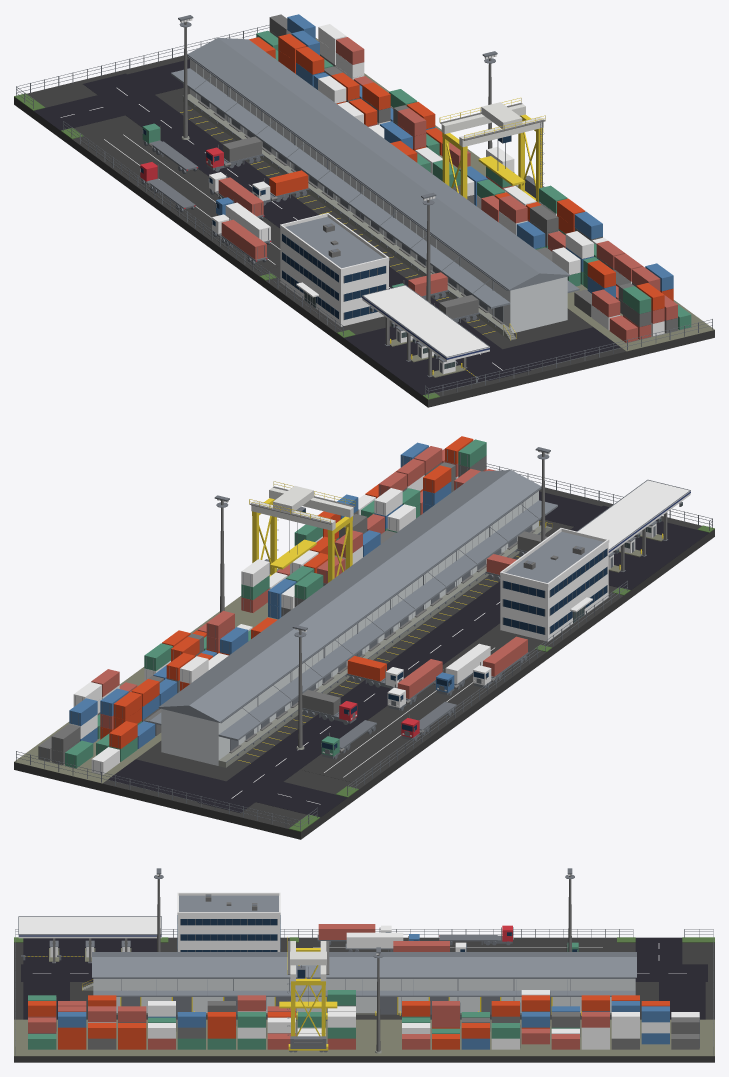
Rendered from top-prebuilt_close.fbx.
The picture shows the model from 3 angles, top to bottom: view 1: azimuth 30°, elevation 25°; view 2: azimuth 150°, elevation 25°; view 3: azimuth 270°, elevation 25°; orthographic projection. The views are drawn at different scales.
Parts seen in each view (by area): view 1: a404_0_top-prebuilt_close; view 2: a404_0_top-prebuilt_close; view 3: a404_0_top-prebuilt_close.
Boxes of the visible parts, x1=… form: a404_0_top-prebuilt_close: x1=14, y1=14, x2=714, y2=407; a404_0_top-prebuilt_close: x1=14, y1=436, x2=714, y2=839; a404_0_top-prebuilt_close: x1=14, y1=868, x2=714, y2=1062.
Size of the model in its own units: 60 by 25.75 by 150.
